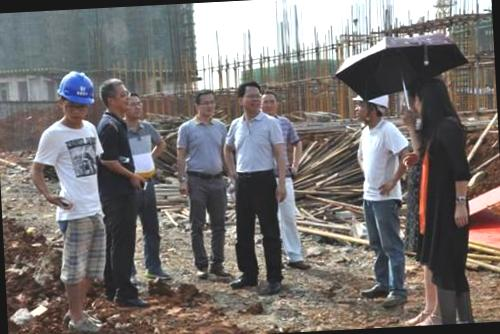no_helmet: (406, 76, 452, 122), (96, 74, 132, 117), (234, 78, 266, 116), (194, 88, 220, 122), (126, 90, 149, 122), (260, 89, 279, 117)
